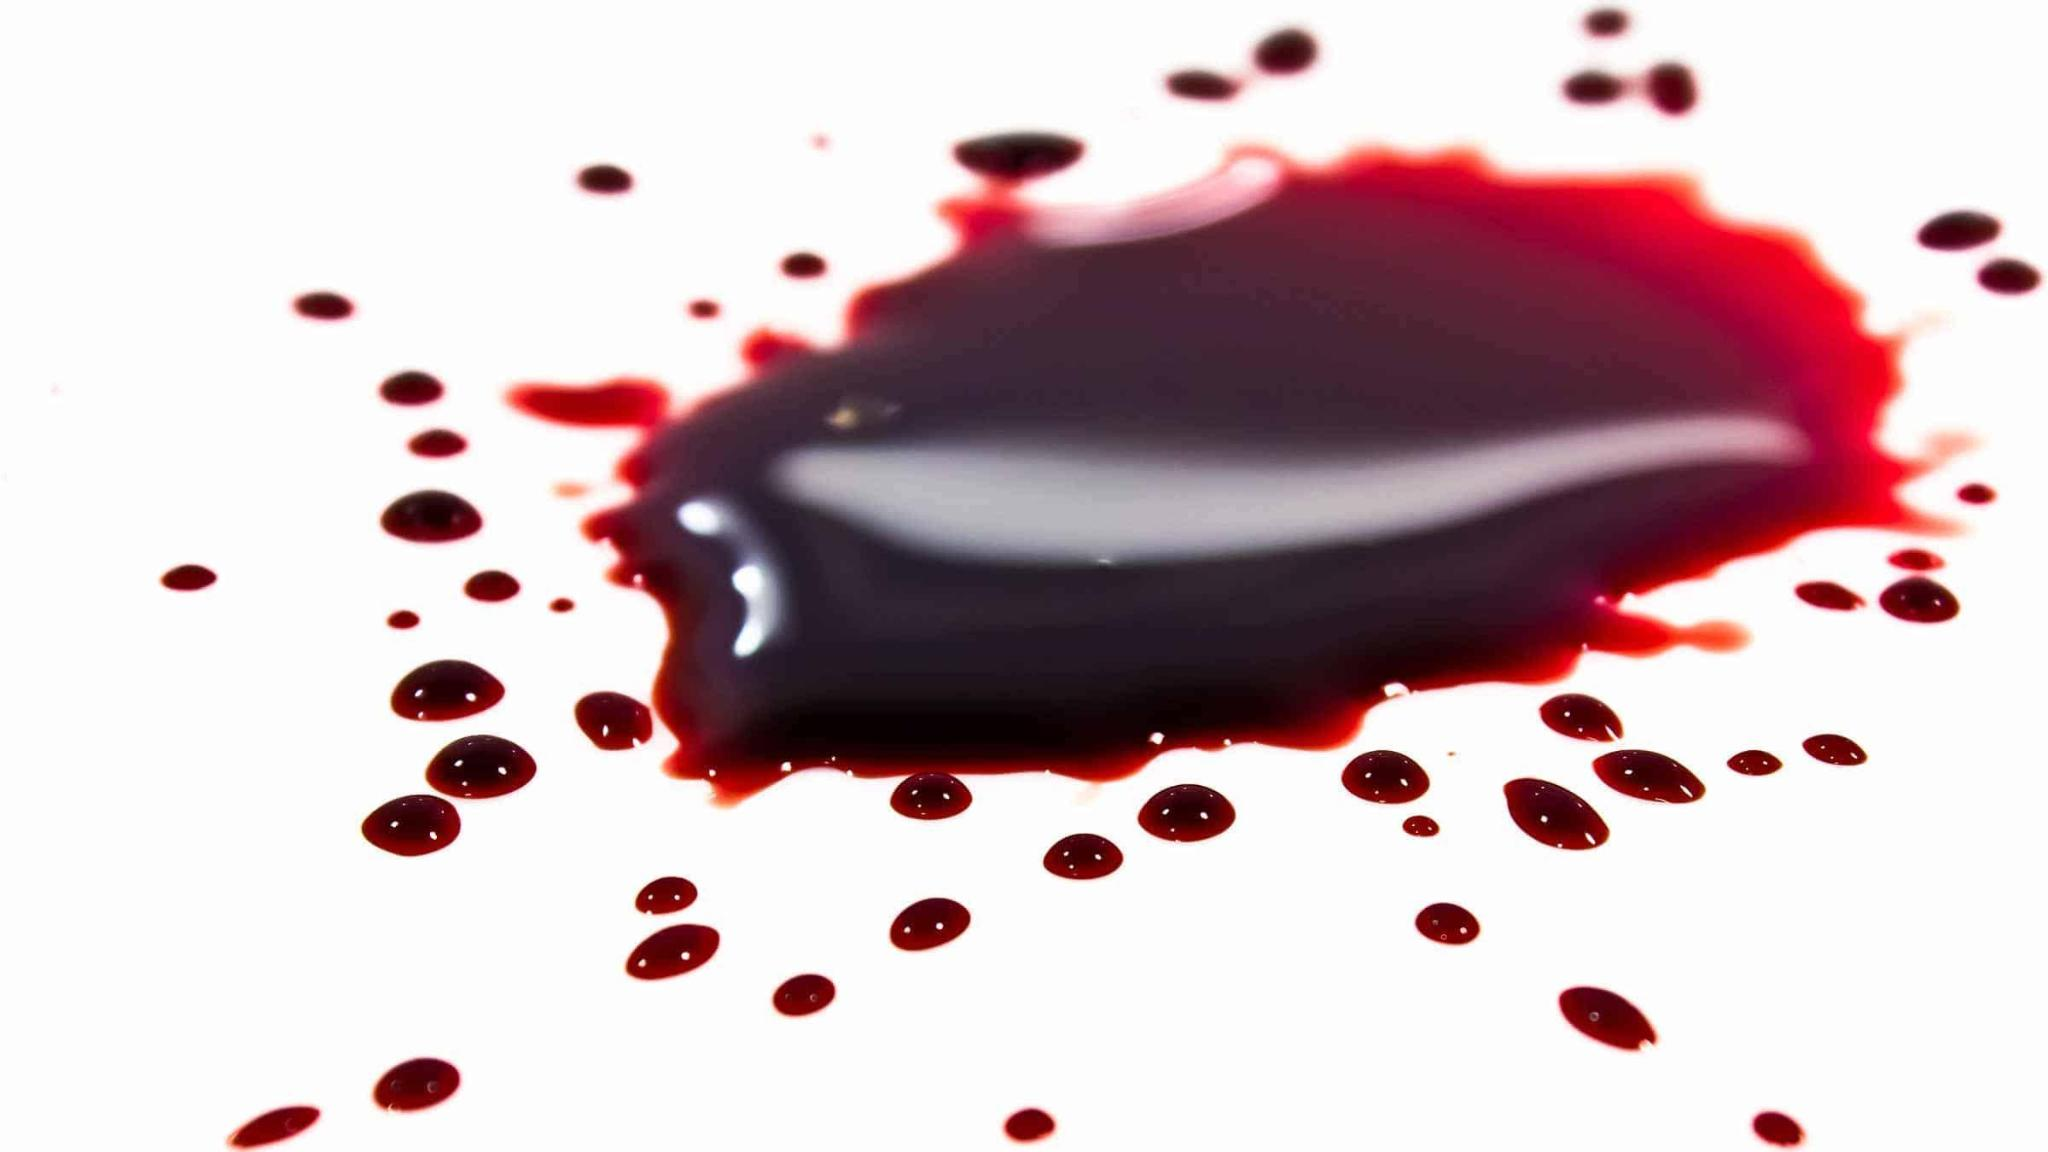Fire: (592, 129, 1903, 817), (360, 733, 537, 857), (506, 376, 670, 429), (1506, 778, 1611, 850), (388, 658, 502, 720), (1598, 748, 1706, 803), (1885, 546, 1961, 623), (1139, 782, 1235, 841), (378, 487, 481, 542), (1564, 987, 1649, 1051), (626, 924, 719, 980), (370, 1058, 459, 1113), (1345, 750, 1431, 803), (889, 897, 971, 952), (577, 692, 651, 747), (226, 1106, 318, 1148), (1543, 695, 1625, 740), (1045, 833, 1124, 879), (1921, 207, 2006, 249), (1253, 23, 1321, 73), (1416, 902, 1481, 945), (771, 973, 834, 1017), (1566, 65, 1636, 101), (634, 875, 696, 916), (1169, 66, 1245, 98), (1982, 256, 2047, 291), (378, 369, 442, 404), (574, 159, 636, 194), (1656, 62, 1698, 108), (290, 288, 352, 319), (1757, 1111, 1807, 1148), (1800, 580, 1862, 609), (407, 426, 466, 456), (1806, 736, 1868, 764), (1003, 1110, 1055, 1142), (158, 563, 215, 589), (1587, 1, 1633, 34), (464, 570, 516, 598), (778, 249, 826, 277), (1733, 750, 1778, 772), (1961, 481, 2000, 504), (1405, 813, 1442, 837), (384, 609, 418, 629), (689, 297, 717, 315), (547, 596, 574, 612)
